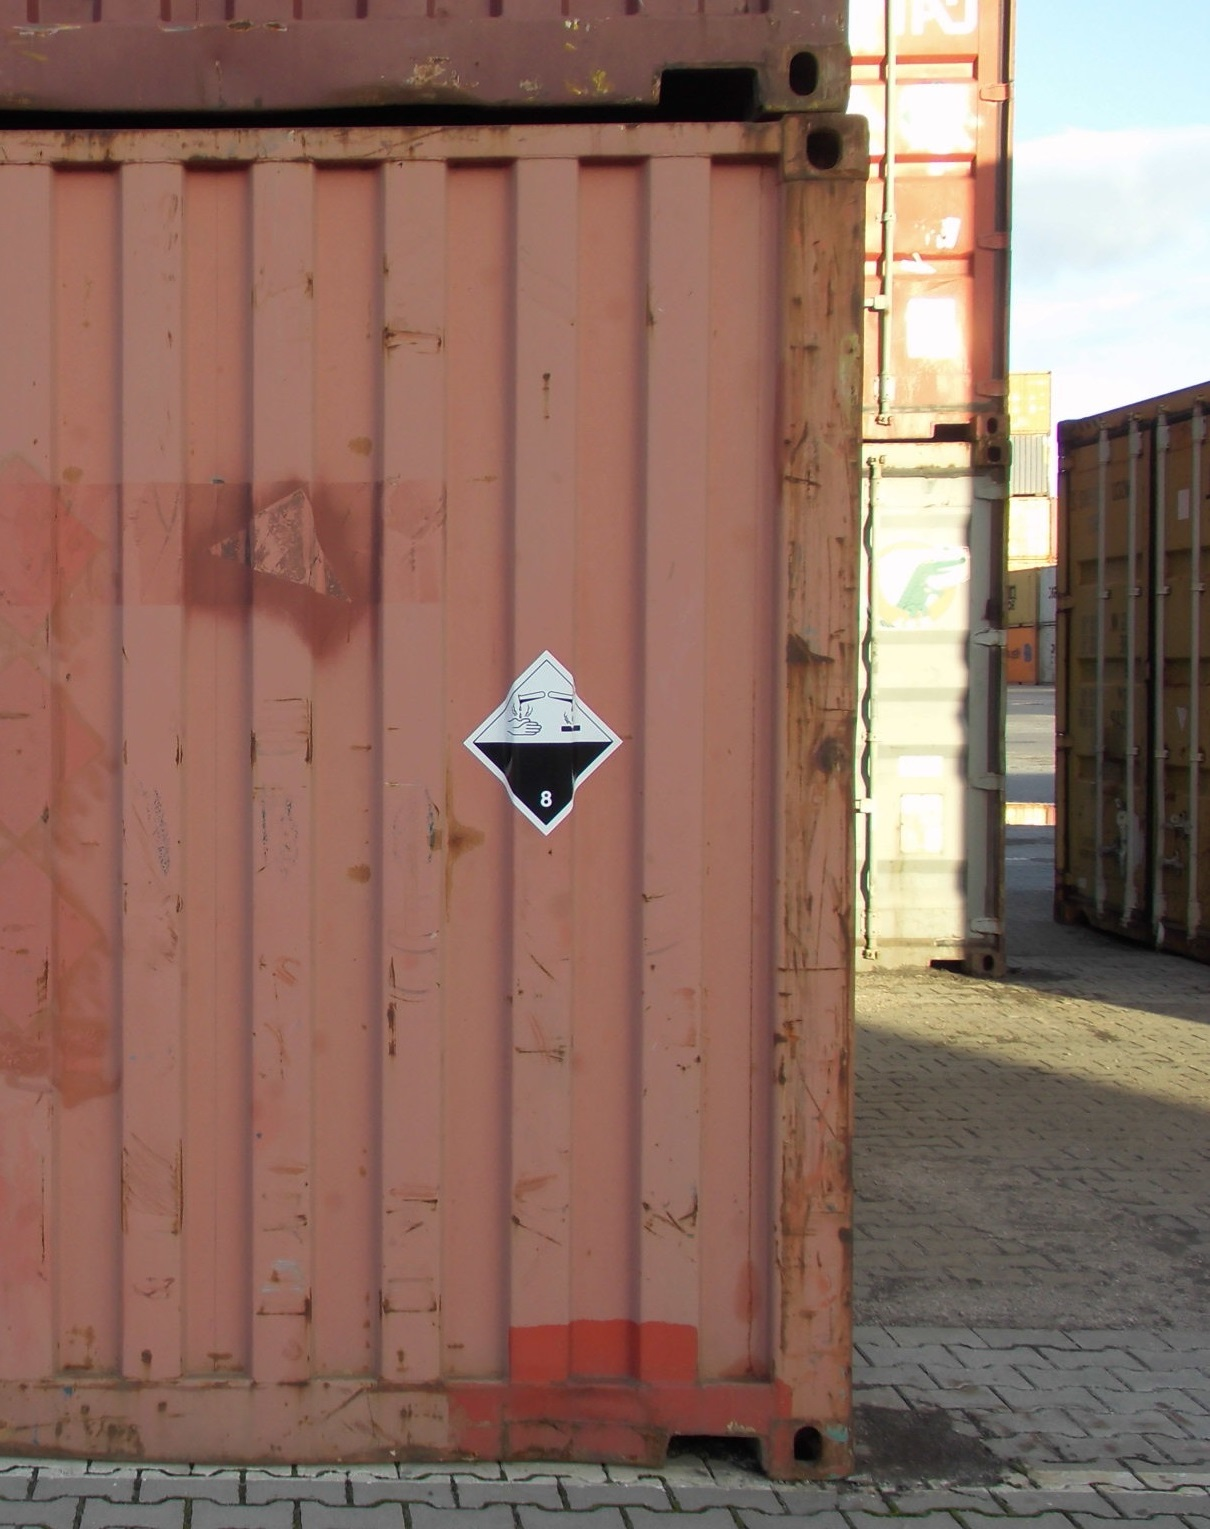container_door: (1047, 383, 1208, 941), (863, 439, 997, 971), (846, 1, 1010, 436)
container_no_door: (6, 120, 871, 1471)
